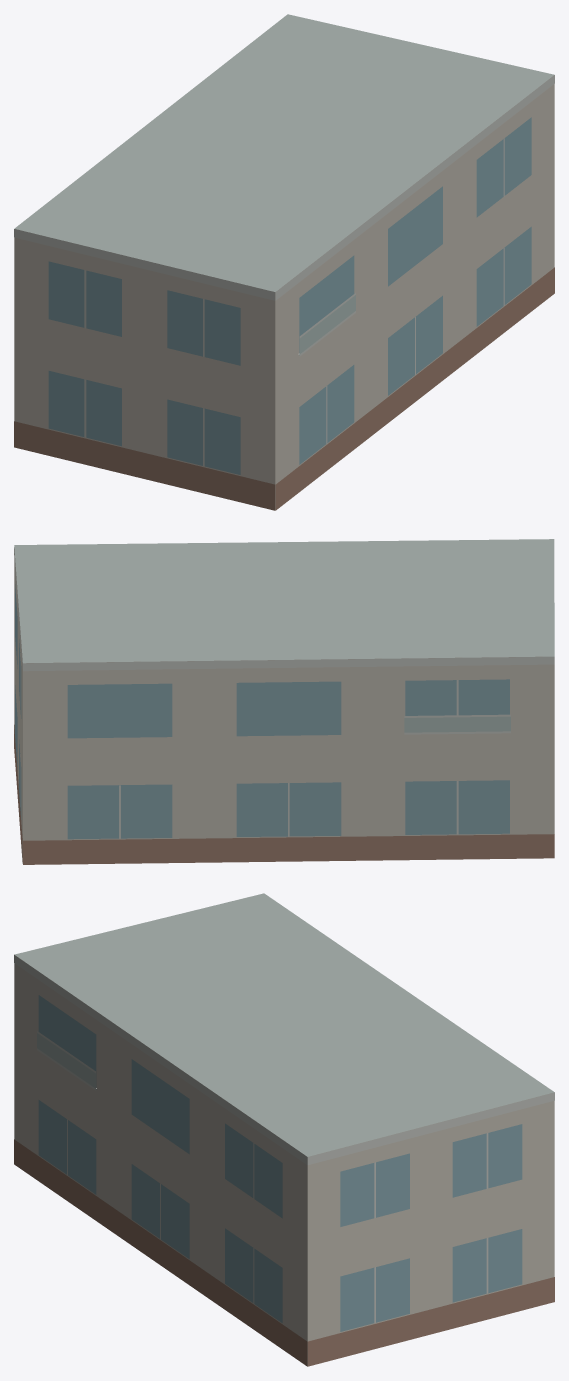
File: survey-upis-32964487.glb
The picture shows the model from 3 angles, top to bottom: view 1: azimuth 30°, elevation 25°; view 2: azimuth 150°, elevation 25°; view 3: azimuth 270°, elevation 25°; orthographic projection. The views are drawn at different scales.
Parts seen in each view (by area): view 1: survey-upis-32964487.tmp; view 2: survey-upis-32964487.tmp; view 3: survey-upis-32964487.tmp.
Part boxes in pixels (bbox=[...]): survey-upis-32964487.tmp: bbox=[14, 14, 554, 510]; survey-upis-32964487.tmp: bbox=[14, 539, 554, 864]; survey-upis-32964487.tmp: bbox=[14, 893, 554, 1366].
Size of the model in its own units: 16.46 by 6.1 by 14.26.
